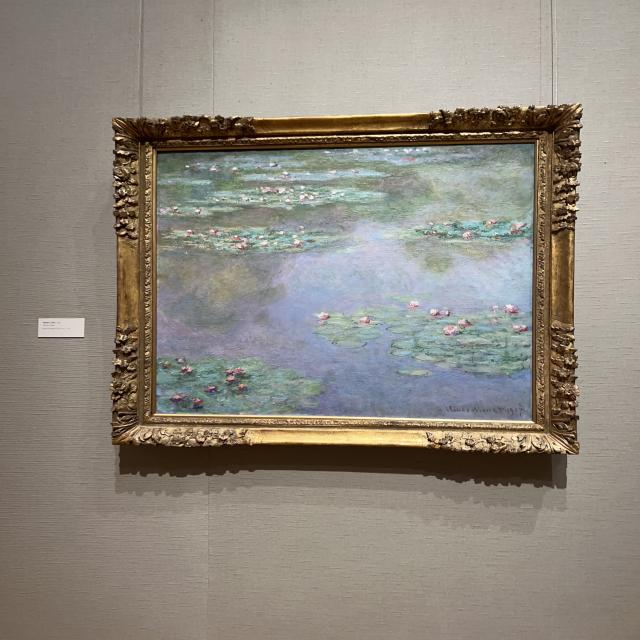lilies: (154, 144, 531, 417)
